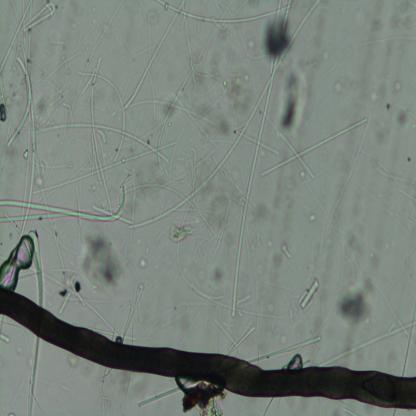Air bubble: (0, 233, 34, 290), (27, 338, 40, 414), (228, 326, 256, 352), (287, 354, 304, 369), (0, 102, 6, 121)
Background material: (32, 57, 82, 129), (368, 151, 416, 205), (78, 234, 122, 289), (369, 2, 416, 45), (336, 226, 380, 269), (92, 368, 132, 414), (335, 280, 374, 327), (284, 65, 304, 137), (224, 71, 254, 117), (262, 16, 292, 59), (364, 65, 390, 108), (92, 10, 116, 42), (168, 224, 194, 242), (214, 116, 235, 138), (392, 106, 411, 129), (331, 79, 350, 97), (136, 252, 150, 270), (317, 48, 331, 64), (392, 80, 403, 94), (22, 150, 29, 159)
Glass filter fibre: (129, 1, 320, 230), (231, 3, 292, 317), (129, 99, 280, 158), (32, 139, 175, 195), (42, 228, 110, 331), (124, 0, 186, 110), (260, 116, 368, 177), (33, 121, 169, 164), (319, 316, 416, 367), (83, 57, 113, 217), (0, 190, 126, 223), (90, 68, 128, 158), (156, 1, 293, 25), (173, 241, 221, 305), (0, 0, 33, 73), (9, 56, 33, 148), (249, 335, 320, 365), (17, 134, 36, 243), (112, 280, 150, 333), (28, 229, 47, 305), (22, 0, 53, 32), (138, 387, 180, 408), (0, 212, 67, 225), (298, 278, 320, 310), (58, 291, 72, 314), (281, 244, 292, 259), (0, 331, 10, 343)
Microfibre: (0, 287, 416, 412)
